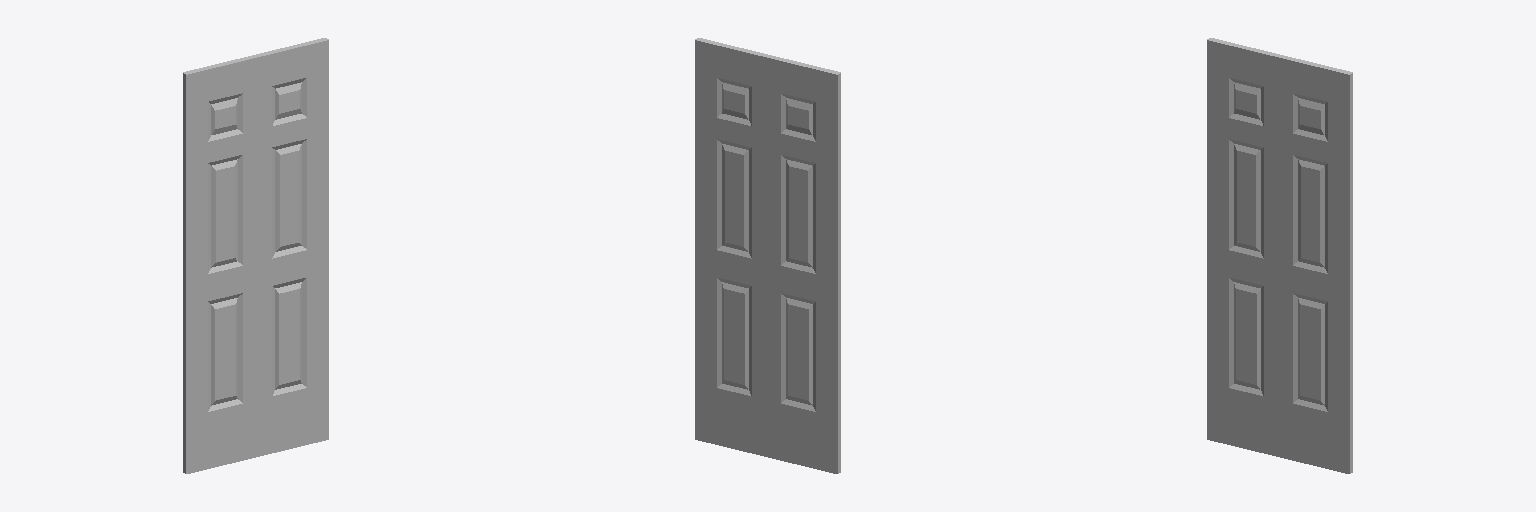
Rendered from 6paneldoor.obj.
3 views of the same model, side by side, from view 1: azimuth 30°, elevation 25°; view 2: azimuth 150°, elevation 25°; view 3: azimuth 330°, elevation 25° (orthographic).
Parts seen in each view (by area): view 1: doormesh; view 2: doormesh; view 3: doormesh.
Boxes of the visible parts, x1=… form: doormesh: x1=183, y1=38, x2=328, y2=473; doormesh: x1=695, y1=38, x2=840, y2=473; doormesh: x1=1207, y1=38, x2=1352, y2=473.
Bounding box in the file's own units: 0.762 × 2.03 × 0.0318.